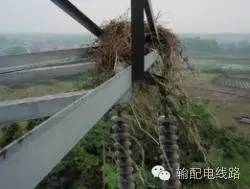bird-nest: (98, 19, 184, 67)
